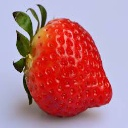strawberry: (14, 11, 113, 117)
